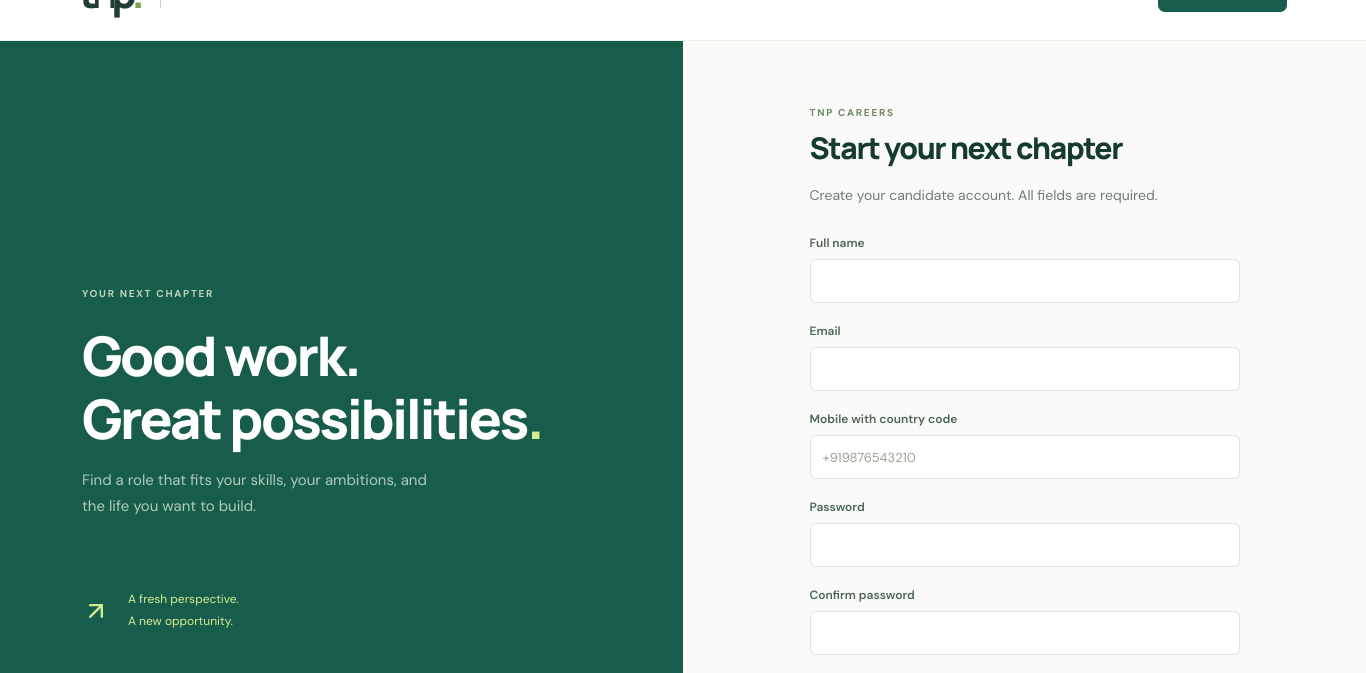
Test: registration cannot submit when only mobileNumber is missing
Step 1. Type "Candidate" into the field labelled "Full name" → (1024, 281), box [810,259,1240,303]
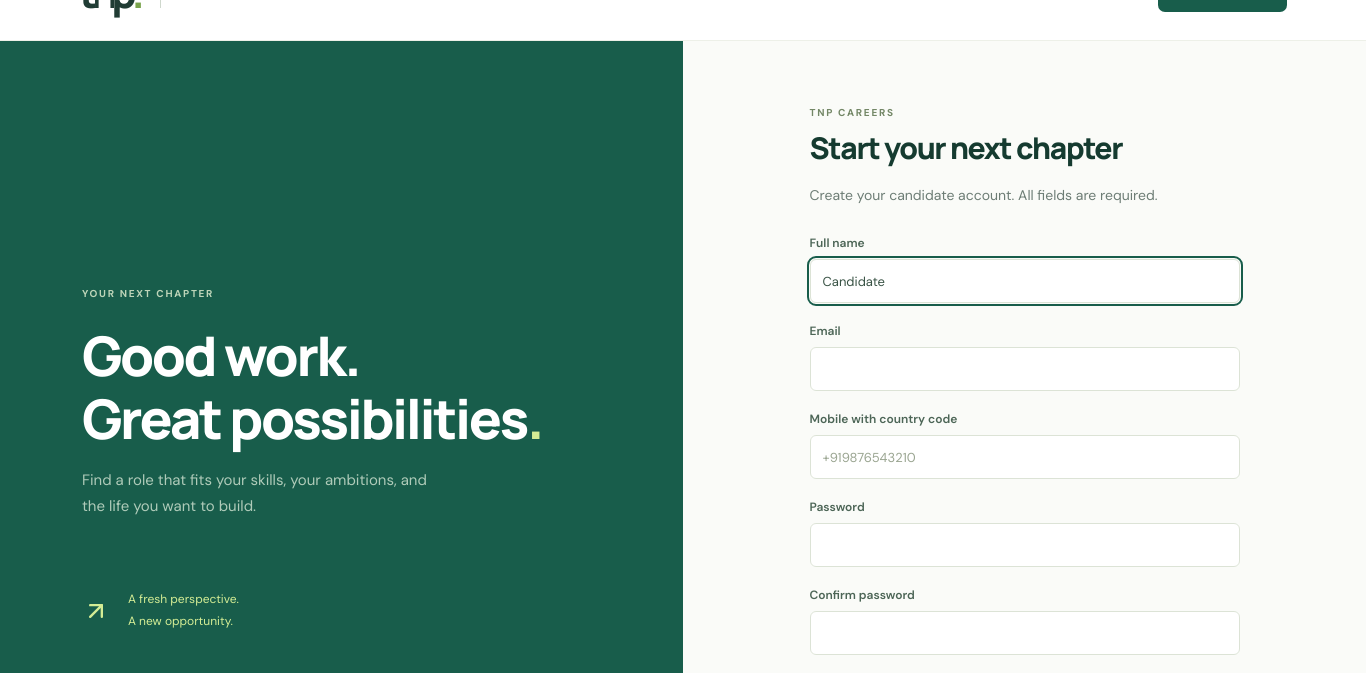
Step 2. Type "candidate@example.test" into the field labelled "Email" → (1024, 369), box [810,347,1240,391]
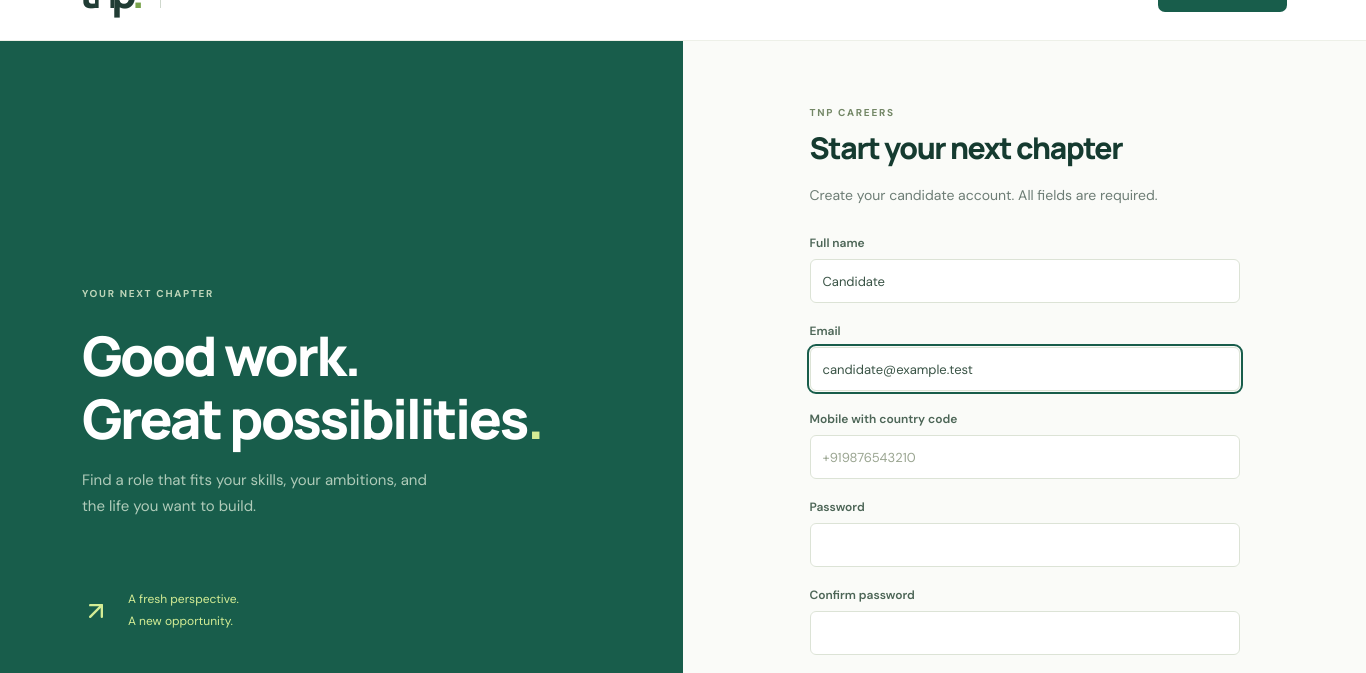
Step 3. Type "a test passphrase" into the password field labelled "Password" → (1024, 545), box [810,523,1240,567]
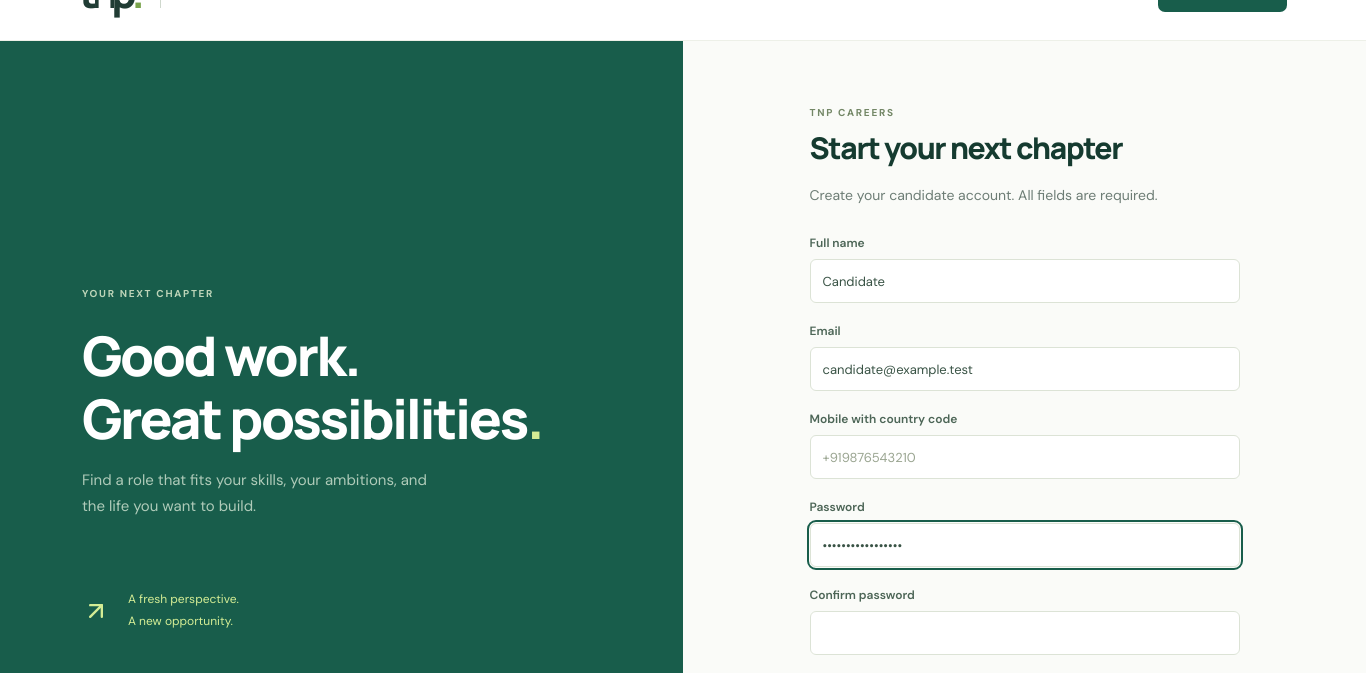
Step 4. Type "a test passphrase" into the password field labelled "Confirm password" → (1024, 633), box [810,611,1240,655]
(page scrolled)
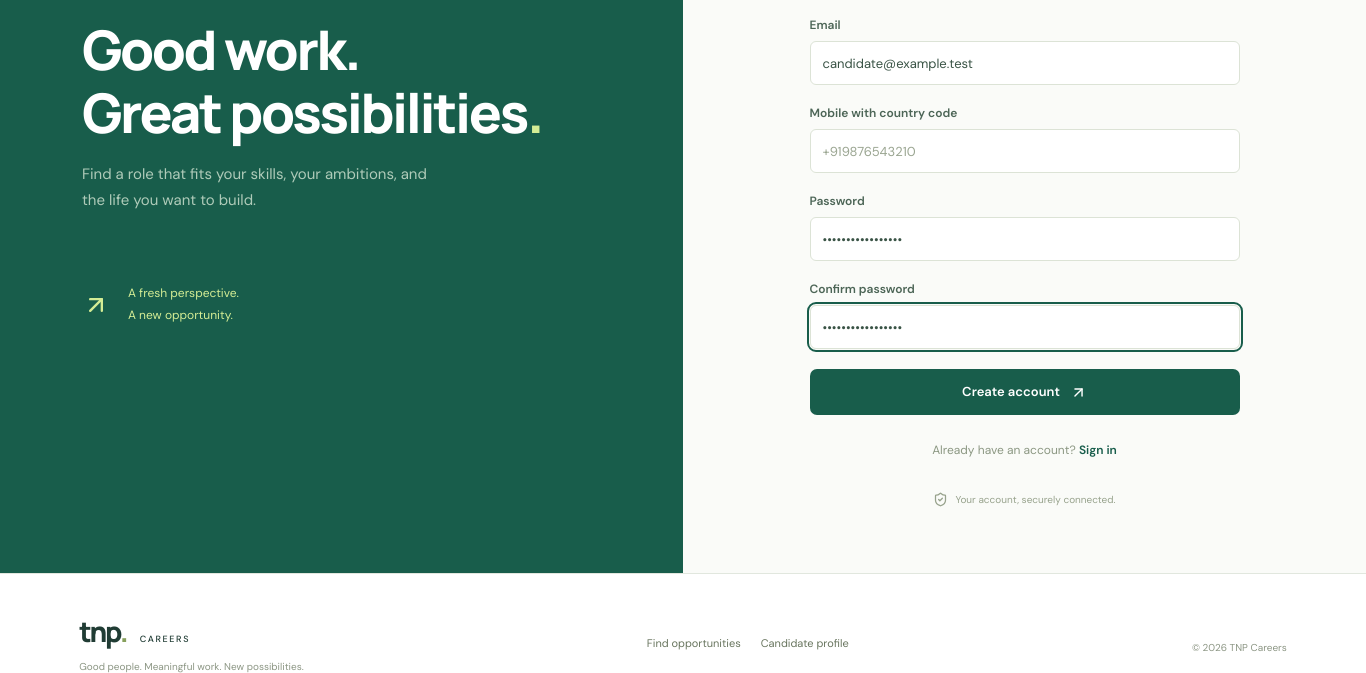
Step 5. Click the button "Create account" → (1024, 392), box [810,369,1240,415]
(page scrolled)
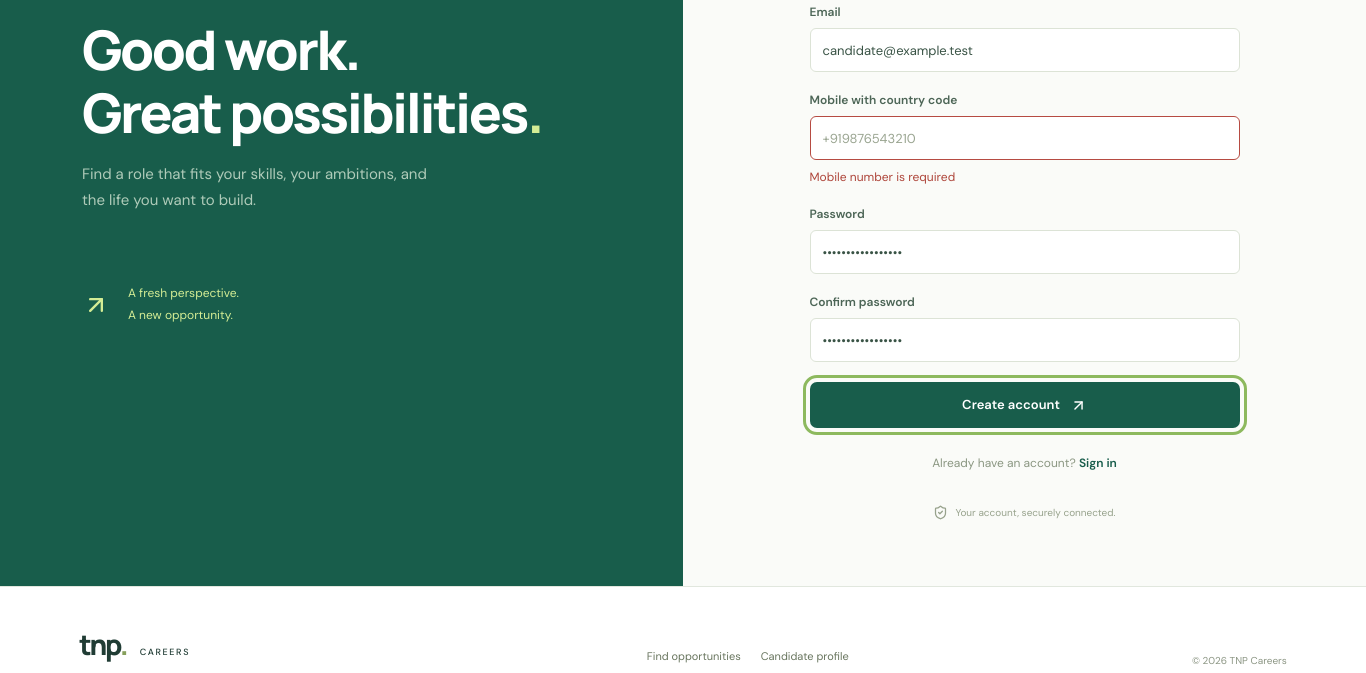
Expected: the text "Mobile number is required" is shown, [810,169,955,185]
